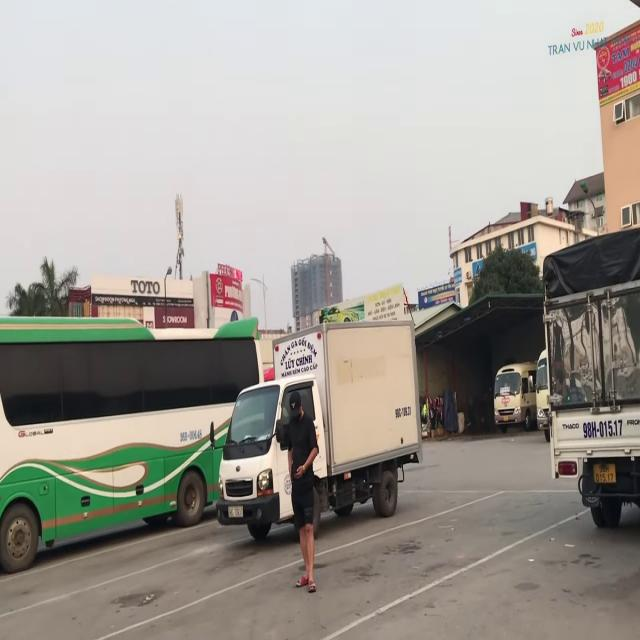bien_vang: (590, 460, 618, 488)
